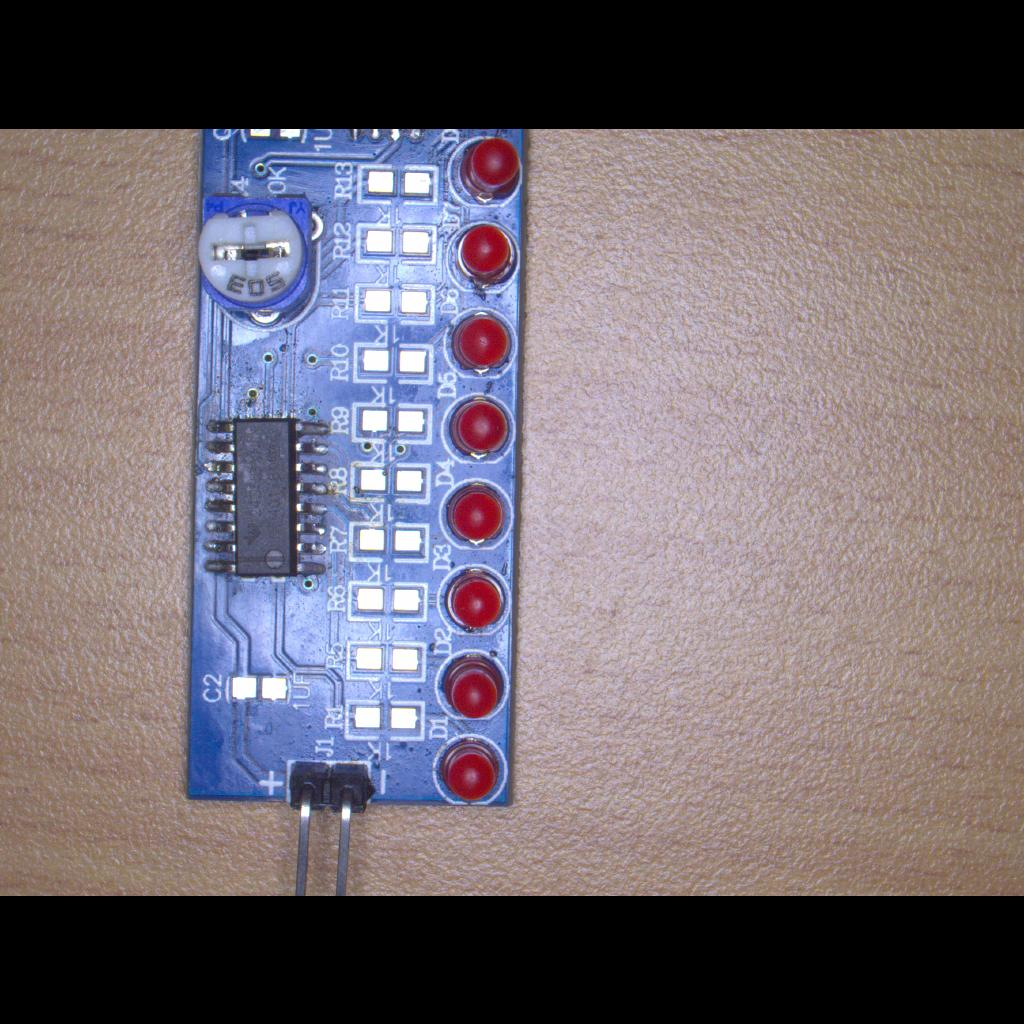NG: (347, 515, 433, 567), (351, 218, 441, 266), (348, 457, 436, 505), (352, 160, 442, 206), (350, 280, 440, 326), (349, 340, 437, 386), (344, 578, 432, 624), (348, 402, 436, 448), (342, 640, 432, 684), (342, 698, 430, 742), (220, 666, 294, 706), (240, 128, 310, 142)
OK: (196, 412, 336, 586)
